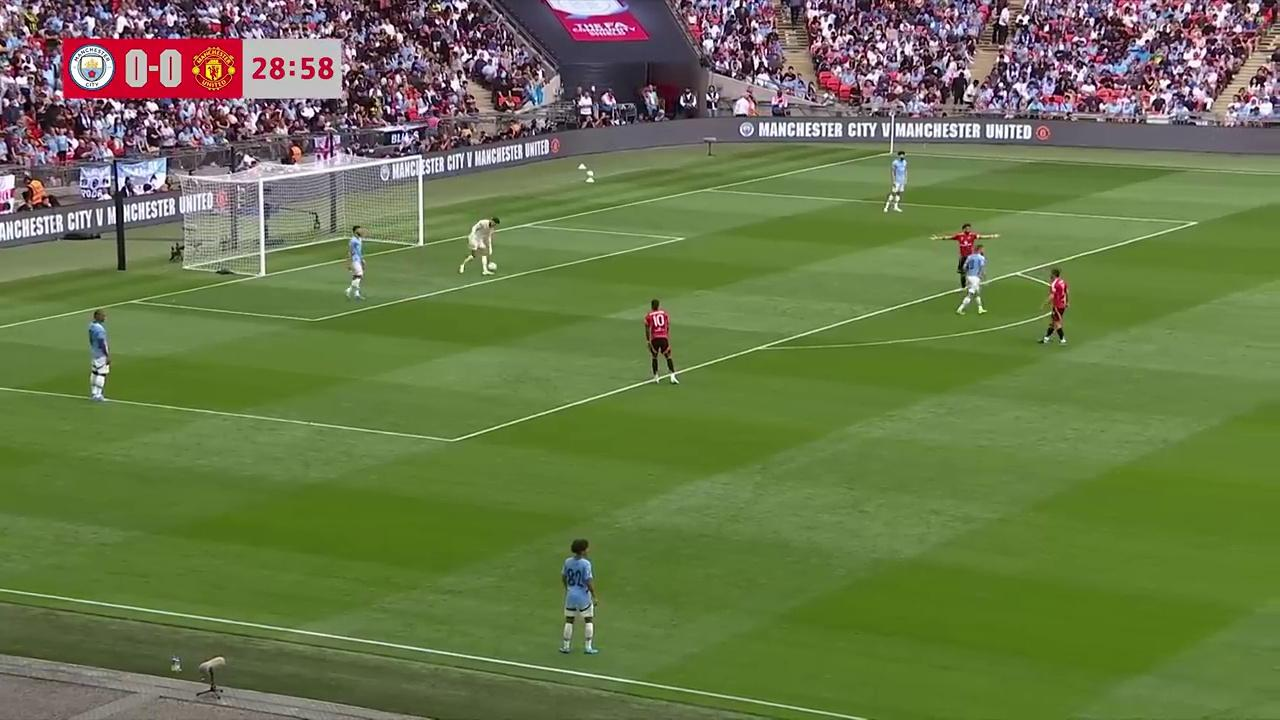ball: (487, 258, 497, 271)
player: (558, 538, 600, 655), (643, 297, 679, 384), (1039, 267, 1069, 346), (956, 238, 987, 314), (931, 223, 977, 274), (459, 216, 497, 275), (88, 310, 112, 401), (343, 227, 366, 300), (883, 150, 907, 213)
